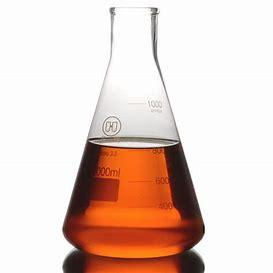Titrarion: (55, 16, 209, 263)
